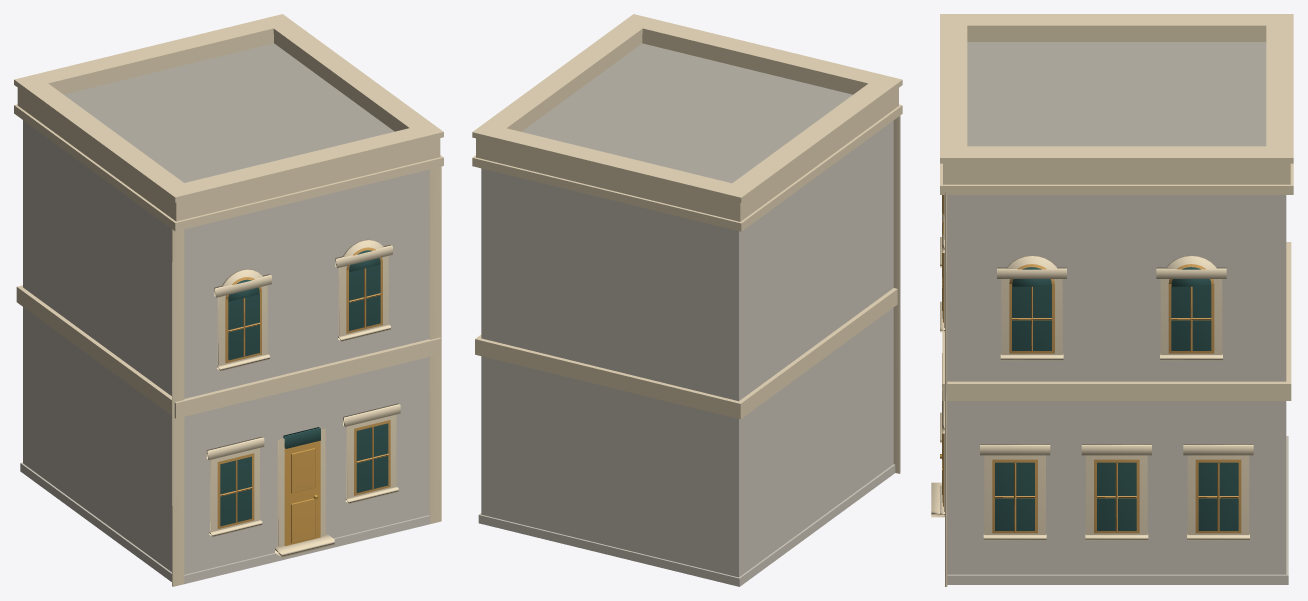
Rendered from building_low_stone.glb.
The picture shows the model from 3 angles, left to right: view 1: azimuth 30°, elevation 25°; view 2: azimuth 150°, elevation 25°; view 3: azimuth 270°, elevation 25°; orthographic projection. The views are drawn at different scales.
Visible parts, largest first — view 1: WallUpper, WallGround, Roof, ParapetCap, Parapet, Band0, Cornice, Quoin0.0, Quoin4.515, Plinth, FG0Glass, FG1Glass (+17 smaller); view 2: WallUpper, WallGround, Roof, ParapetCap, Parapet, Band0, Cornice, Plinth, Quoin0.0; view 3: WallUpper, WallGround, Roof, ParapetCap, Parapet, Band0, Plinth, Cornice, SG2Glass, SG0Glass, SG1Glass, SU1Glass (+17 smaller).
Boxes of the visible parts, x1,y1,x2,y2 form: WallUpper: [23, 120, 429, 398]; WallGround: [23, 307, 429, 574]; Roof: [64, 43, 394, 182]; ParapetCap: [14, 14, 443, 202]; Parapet: [17, 34, 440, 221]; Band0: [16, 285, 441, 418]; Cornice: [14, 104, 443, 231]; Quoin0.0: [172, 229, 184, 586]; Quoin4.515: [429, 166, 441, 523]; Plinth: [20, 462, 430, 584]; FG0Glass: [220, 456, 251, 526]; FG1Glass: [356, 423, 388, 492]; WallUpper: [481, 120, 893, 401]; WallGround: [481, 307, 893, 577]; Roof: [521, 43, 852, 183]; ParapetCap: [472, 14, 902, 202]; Parapet: [476, 34, 898, 221]; Band0: [475, 288, 897, 419]; Cornice: [472, 104, 902, 231]; Plinth: [478, 464, 895, 586]; Quoin0.0: [893, 116, 900, 473]; WallUpper: [947, 195, 1286, 381]; WallGround: [947, 401, 1286, 574]; Roof: [967, 42, 1266, 146]; ParapetCap: [940, 14, 1293, 163]; Parapet: [943, 31, 1290, 184]; Band0: [942, 242, 1291, 400]; Plinth: [947, 436, 1288, 584]; Cornice: [940, 163, 1293, 194]; SG2Glass: [1198, 462, 1238, 530]; SG0Glass: [995, 462, 1034, 530]; SG1Glass: [1097, 462, 1136, 530]; SU1Glass: [1171, 286, 1211, 350].
Bounding box in the file's own units: 4.72 × 6.56 × 5.02.
